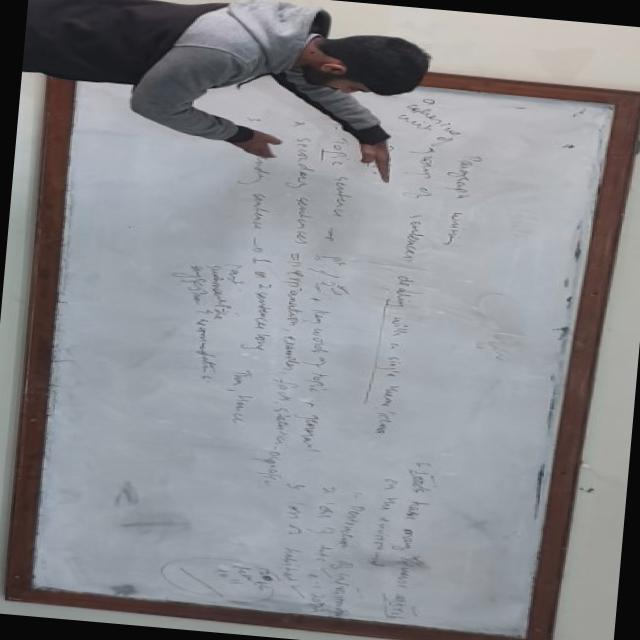Instructor: (19, 0, 448, 124)
White-board: (15, 48, 635, 640)
